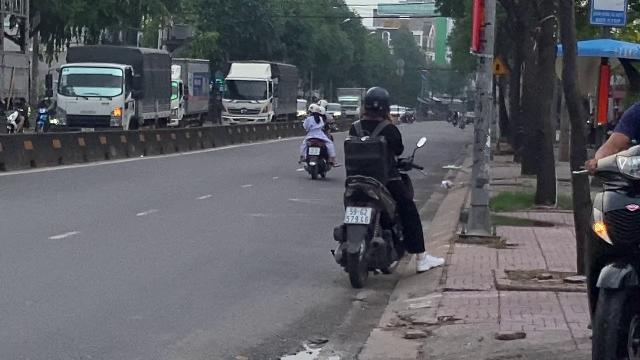helmet: (359, 86, 391, 120)
licenseplate: (345, 206, 371, 222)
motorcyclist: (330, 83, 426, 287), (582, 38, 640, 360)
